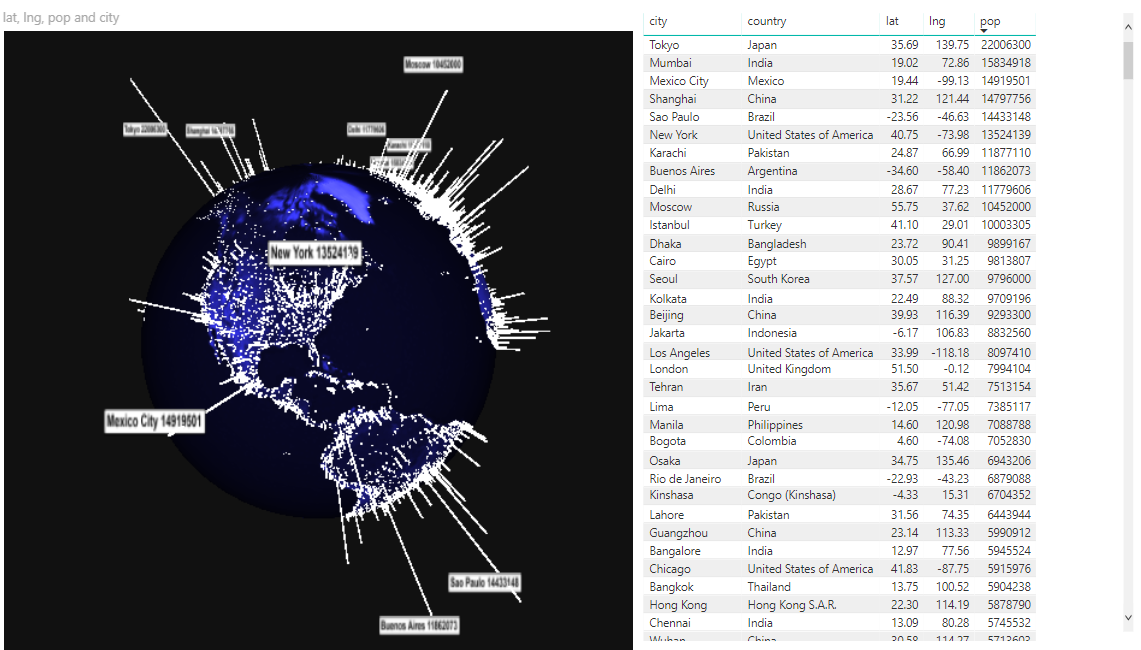

Layout of this report page (visuals, bound fields, positions):
{"tool":"powerbi","page":{"name":"Page 1","canvas":[960,720],"ordinal":0},"visuals":[{"type":"tableEx","fields":{"Values":["simplelatlong.city","simplelatlong.country","simplelatlong.lat","simplelatlong.lng","Sum(simplelatlong.pop)"]},"box":[472,0,488,720],"z":2},{"type":"threejsE0E480FFE18F46FE90AD2FA3A0D80C5F","fields":{"latitude":["simplelatlong.lat"],"longitude":["simplelatlong.lng"],"value":["simplelatlong.pop"],"name":["simplelatlong.city"]},"box":[16,144,448,448],"z":2}]}

Visuals, with their boxes on the page's 960x720 design canvas (x1, y1, x2, y2). These are canvas units, not pixel positions in the 1141x650 screenshot, which may show the page scaled, cropped or inside an application window:
tableEx - simplelatlong.city x simplelatlong.country: bbox=[472, 0, 960, 720]
threejsE0E480FFE18F46FE90AD2FA3A0D80C5F - simplelatlong.lat x simplelatlong.lng: bbox=[16, 144, 464, 592]
